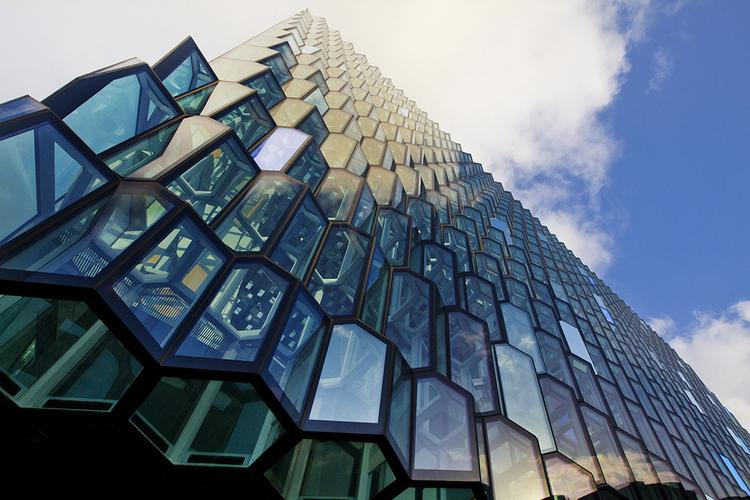buildings: (129, 92, 695, 468), (38, 122, 444, 451)
